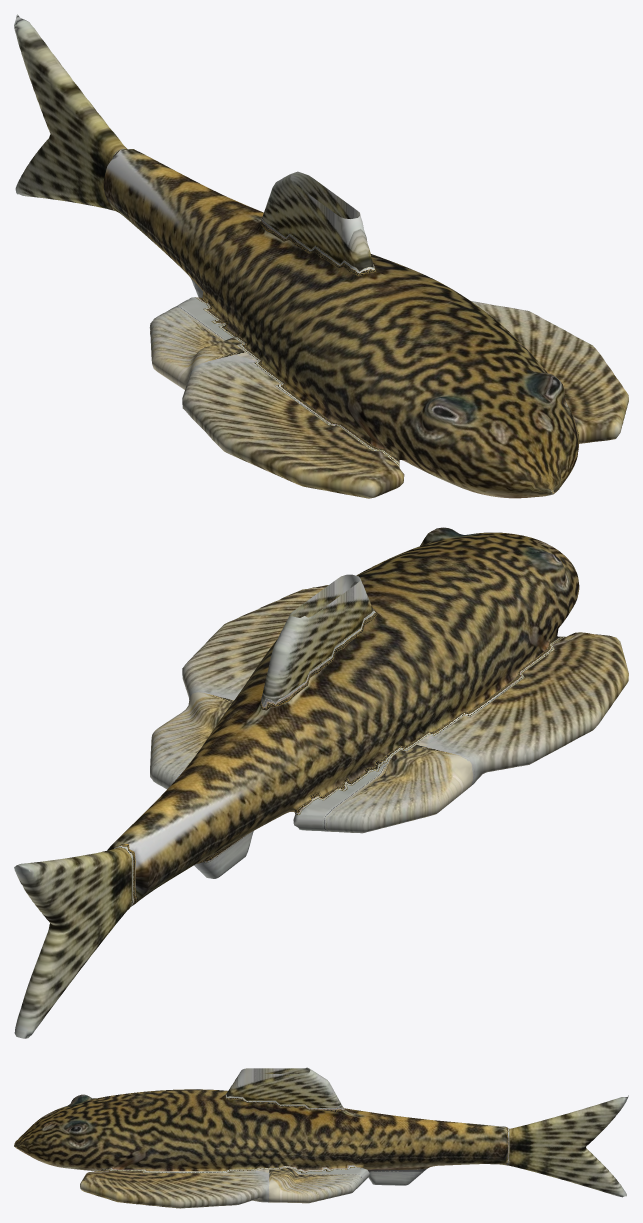
Rendered from hillloach.glb.
The picture shows the model from 3 angles, top to bottom: view 1: azimuth 30°, elevation 25°; view 2: azimuth 150°, elevation 25°; view 3: azimuth 270°, elevation 25°; orthographic projection. The views are drawn at different scales.
Visible parts, largest first — view 1: hillloach, hillloach_fin; view 2: hillloach, hillloach_fin; view 3: hillloach, hillloach_fin.
Boxes of the visible parts, <box> form: hillloach: <box>103,149,578,498</box>; hillloach_fin: <box>14,14,628,498</box>; hillloach: <box>107,527,579,903</box>; hillloach_fin: <box>14,574,628,1038</box>; hillloach: <box>14,1089,507,1171</box>; hillloach_fin: <box>80,1067,628,1208</box>.
Size of the model in its own units: 0.0268 by 0.0151 by 0.0663.
2 materials, 2 textured.
